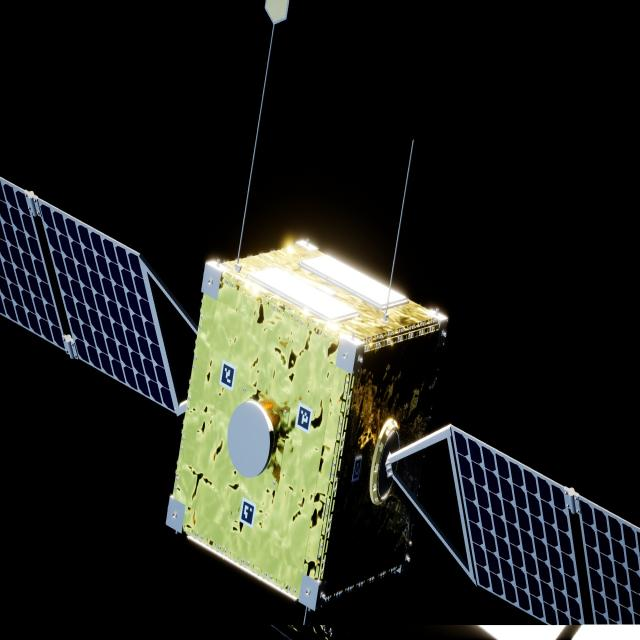satellite: (0, 177, 640, 628)
